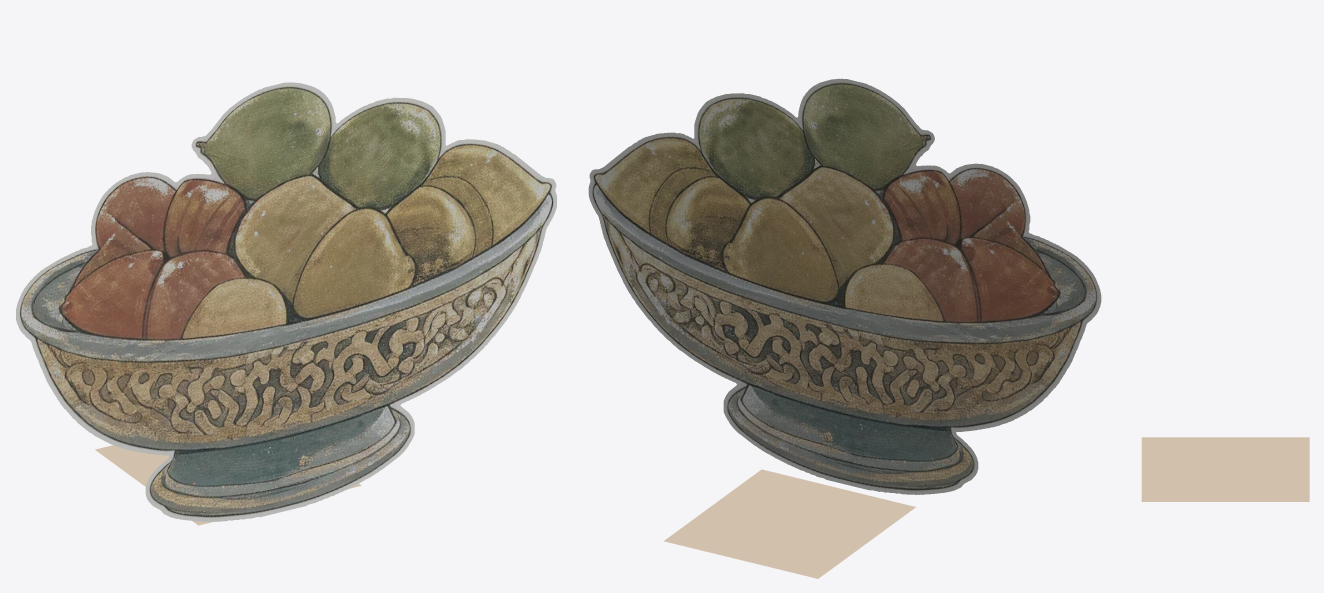
Rendered from toad-standee-fruit-bowl.glb.
3 renders of one model, left to right at view 1: azimuth 30°, elevation 25°; view 2: azimuth 150°, elevation 25°; view 3: azimuth 270°, elevation 25°, orthographic. The views are drawn at different scales.
Parts seen in each view (by area): view 1: fruit-bowl; view 2: fruit-bowl; view 3: fruit-bowl.
Boxes of the visible parts, box(x1,y1,x2,y2) form: fruit-bowl: box(16, 82, 556, 525); fruit-bowl: box(588, 78, 1101, 578); fruit-bowl: box(1141, 437, 1309, 501).
Bounding box in the file's own units: 0.1 × 0.0758 × 0.035.
1 material, 1 textured.
